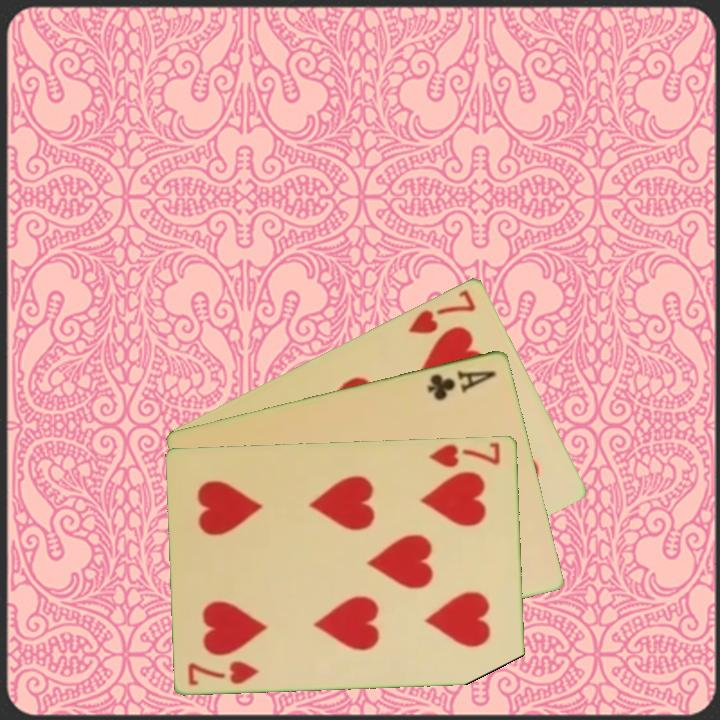7h: (404, 285, 479, 337), (426, 438, 503, 470), (185, 657, 263, 688)
Ac: (424, 366, 500, 403)
